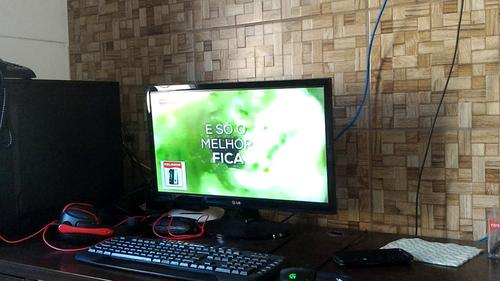Polishop #1: (160, 159, 186, 191)
